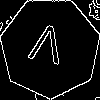V: (25, 22, 67, 74)
